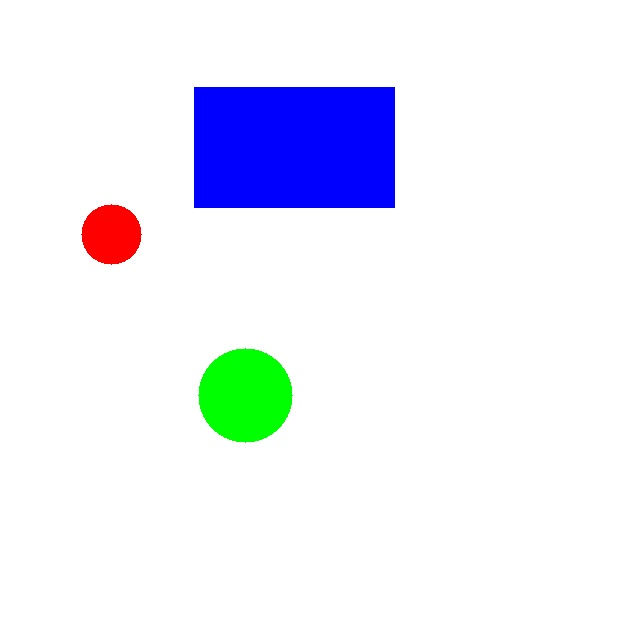cartao: (194, 87, 394, 207)
rosca_externa: (198, 348, 292, 442)
rosca_interna: (81, 204, 141, 264)
